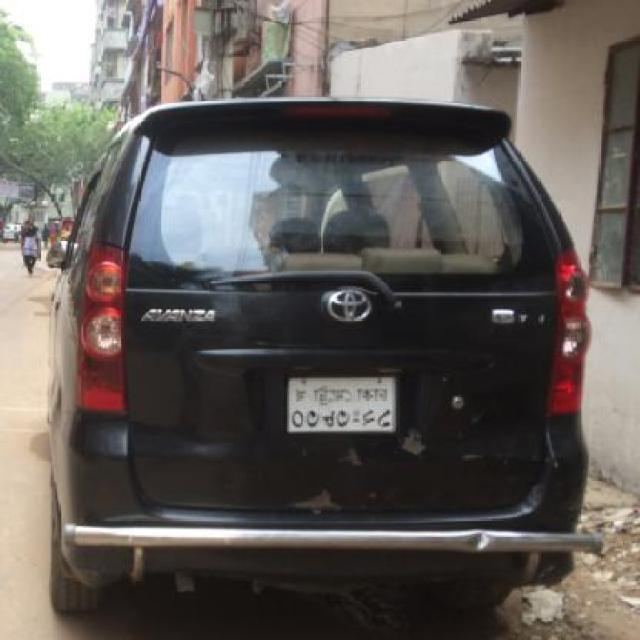numberplate: (284, 373, 400, 435)
